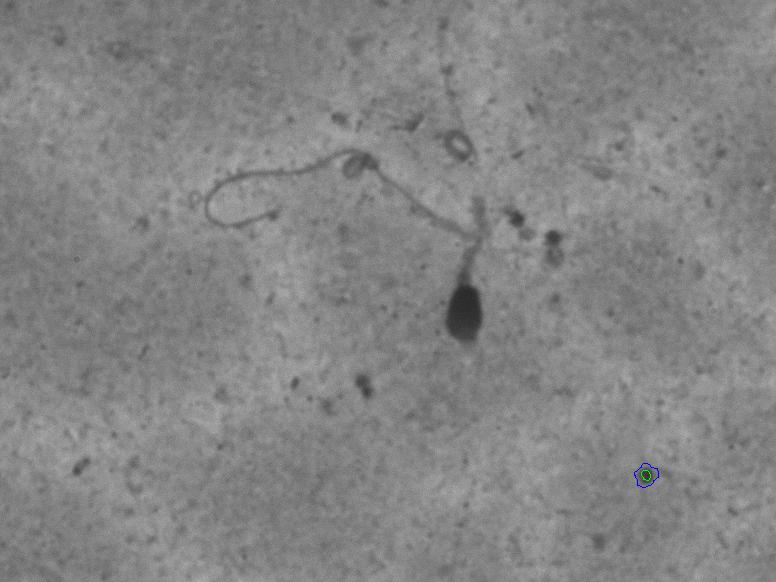Abnormal: (183, 123, 549, 370)
